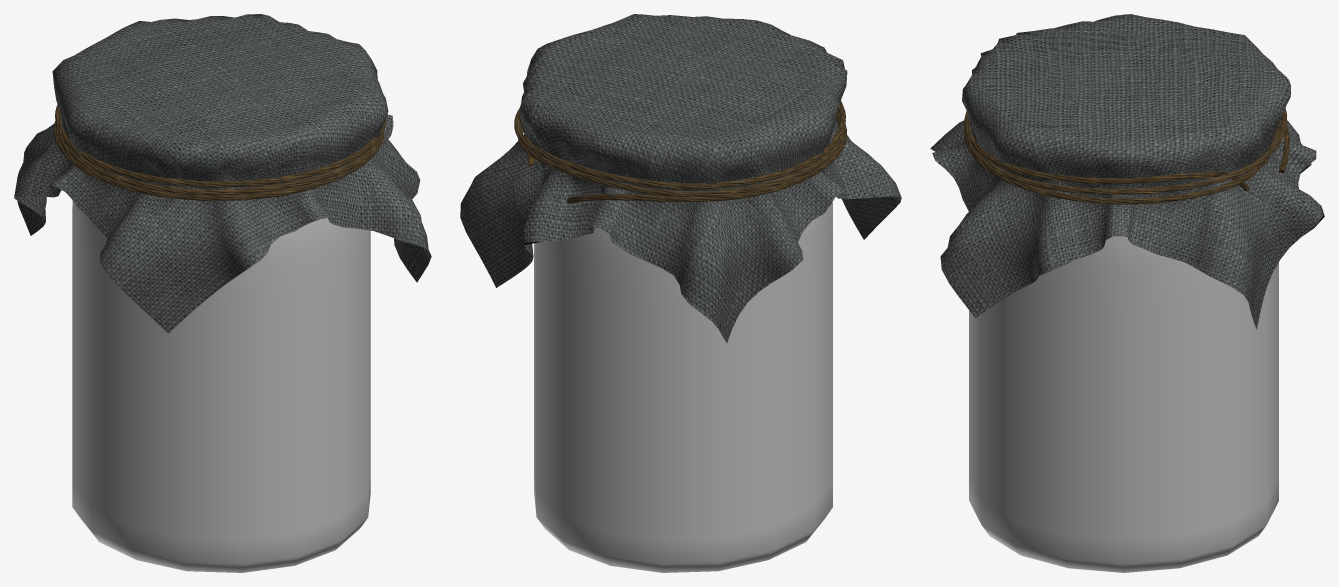
Rendered from jar.glb.
3 views of the same model, side by side, from view 1: azimuth 30°, elevation 25°; view 2: azimuth 150°, elevation 25°; view 3: azimuth 270°, elevation 25° (orthographic).
Parts seen in each view (by area): view 1: Object_3, Object_2, Object_4; view 2: Object_3, Object_2, Object_4; view 3: Object_3, Object_2, Object_4.
Boxes of the visible parts, x1,y1,x2,y2 form: Object_3: (72, 201, 370, 572); Object_2: (14, 14, 431, 333); Object_4: (53, 104, 386, 200); Object_3: (534, 202, 832, 572); Object_2: (460, 14, 901, 342); Object_4: (514, 100, 846, 203); Object_3: (969, 236, 1278, 572); Object_2: (930, 14, 1324, 329); Object_4: (964, 109, 1289, 204).
Size of the model in its own units: 6.07 by 7.67 by 6.22.
Materials: 3 (2 with a texture image).
